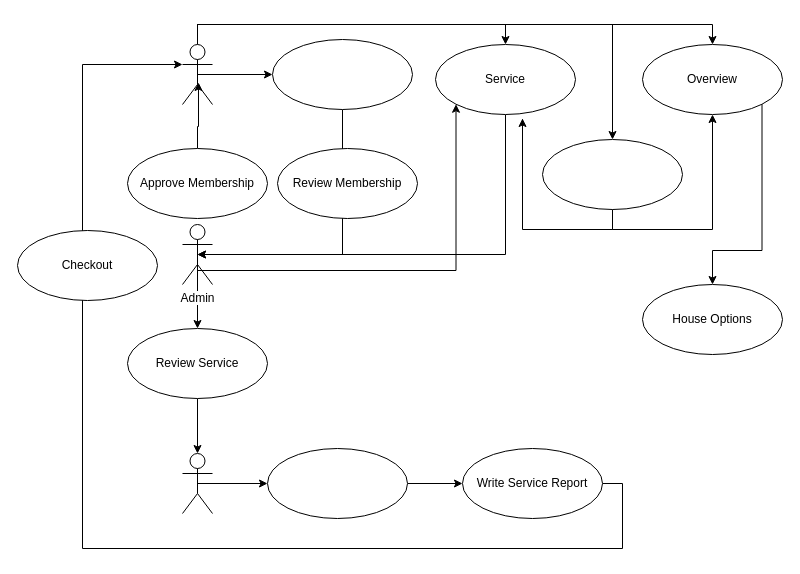
The diagram is 800 pixels wide and 574 high, and some of its shapes have lost their labels. Here are the shapes that lost their labels. From the top down, the box of each, then its label:
(182, 44, 212, 104): Customer
(272, 38, 412, 110): Apply For Membership
(542, 138, 682, 210): Create House
(182, 452, 212, 514): Worker
(266, 448, 408, 518): Visit Described house from service
